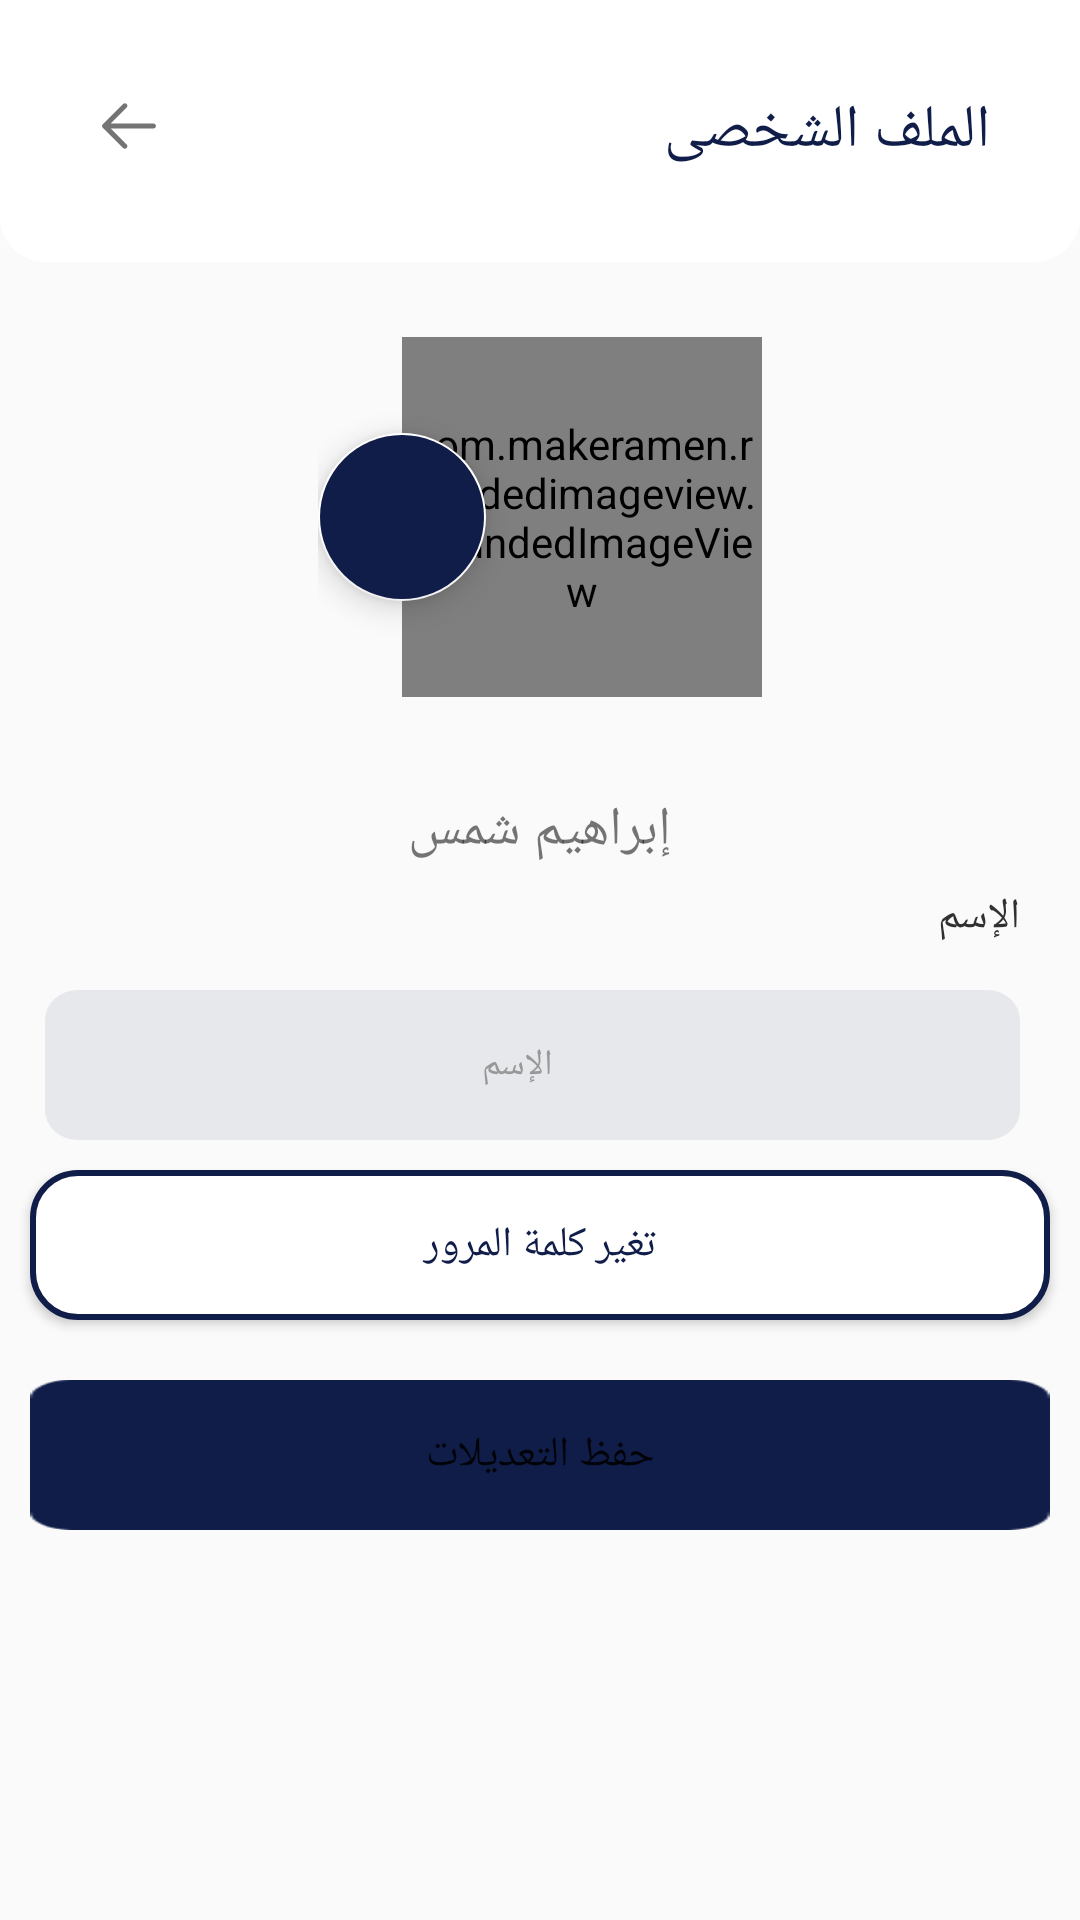

Icons on this 1080 × 1920 Android screen, each with the point to tap as point (x, y):
back ion: point (129, 126)
